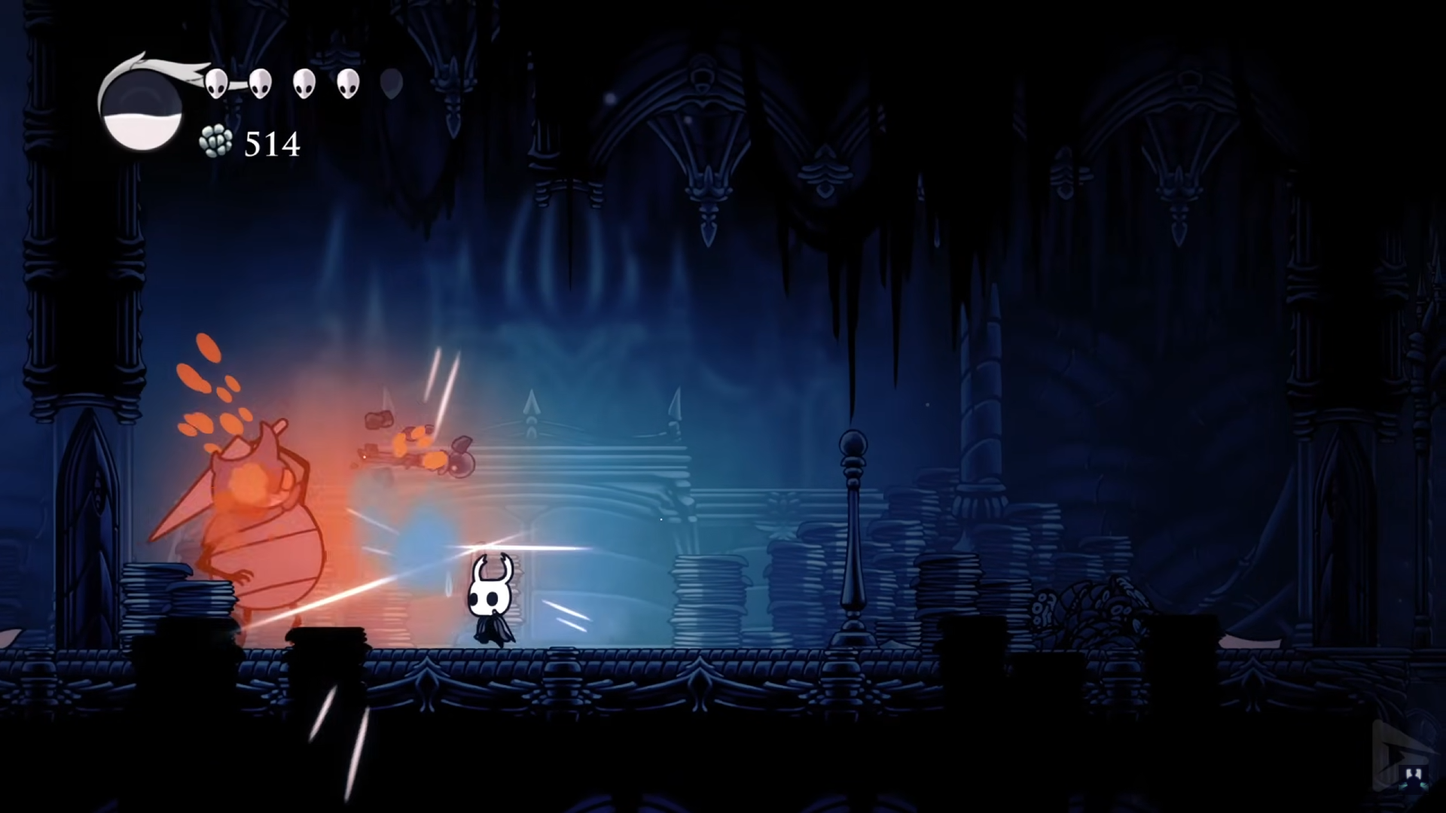HK: (460, 550, 520, 649)
